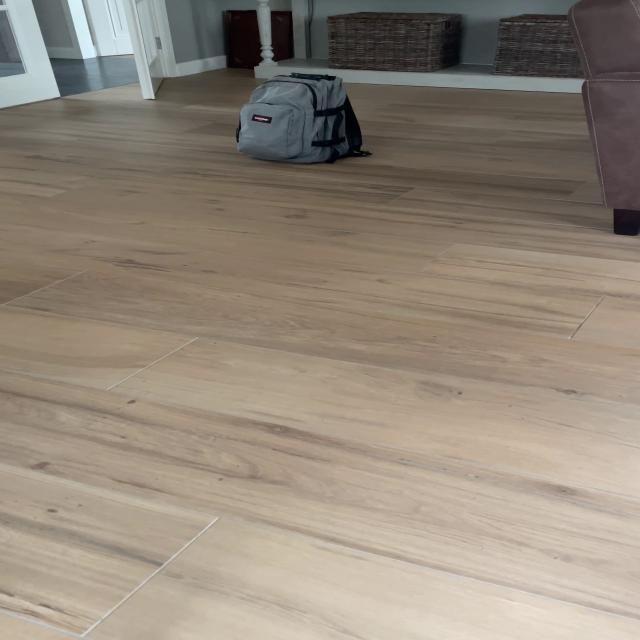backpack: (230, 68, 368, 168)
